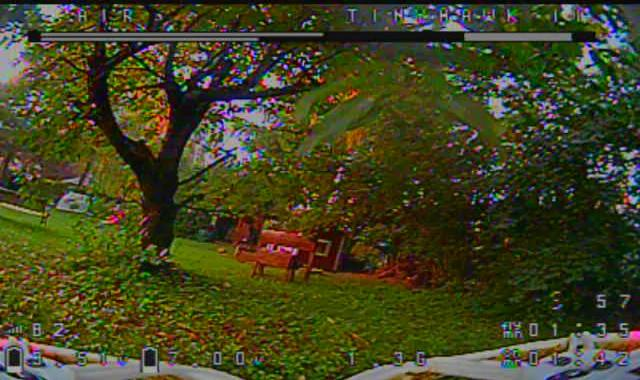horse: (233, 210, 320, 277), (238, 244, 306, 286)
